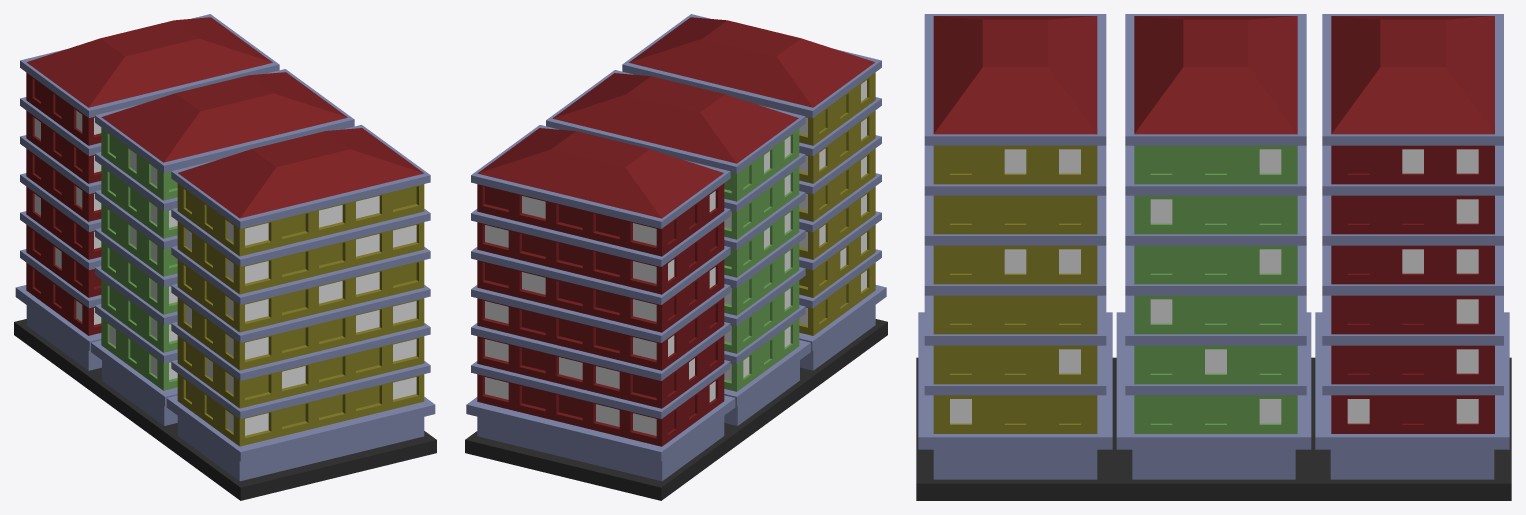
Rendered from tripple_house.fbx.
3 views of the same model, side by side, from view 1: azimuth 30°, elevation 25°; view 2: azimuth 150°, elevation 25°; view 3: azimuth 270°, elevation 25° (orthographic). The views are drawn at different scales.
Parts seen in each view (by area): view 1: Plane.012; view 2: Plane.012; view 3: Plane.012.
Part boxes in pixels (x1,y1,x2,y2): Plane.012: (14,14,436,500); Plane.012: (465,14,887,500); Plane.012: (916,14,1511,500).
Bounding box in the file's own units: 200 × 293 × 400.
